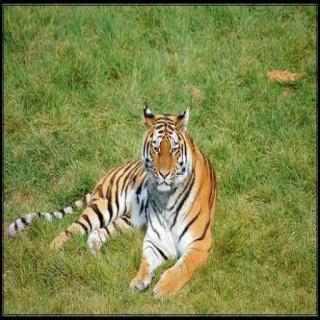Tiger: (25, 106, 224, 302)
